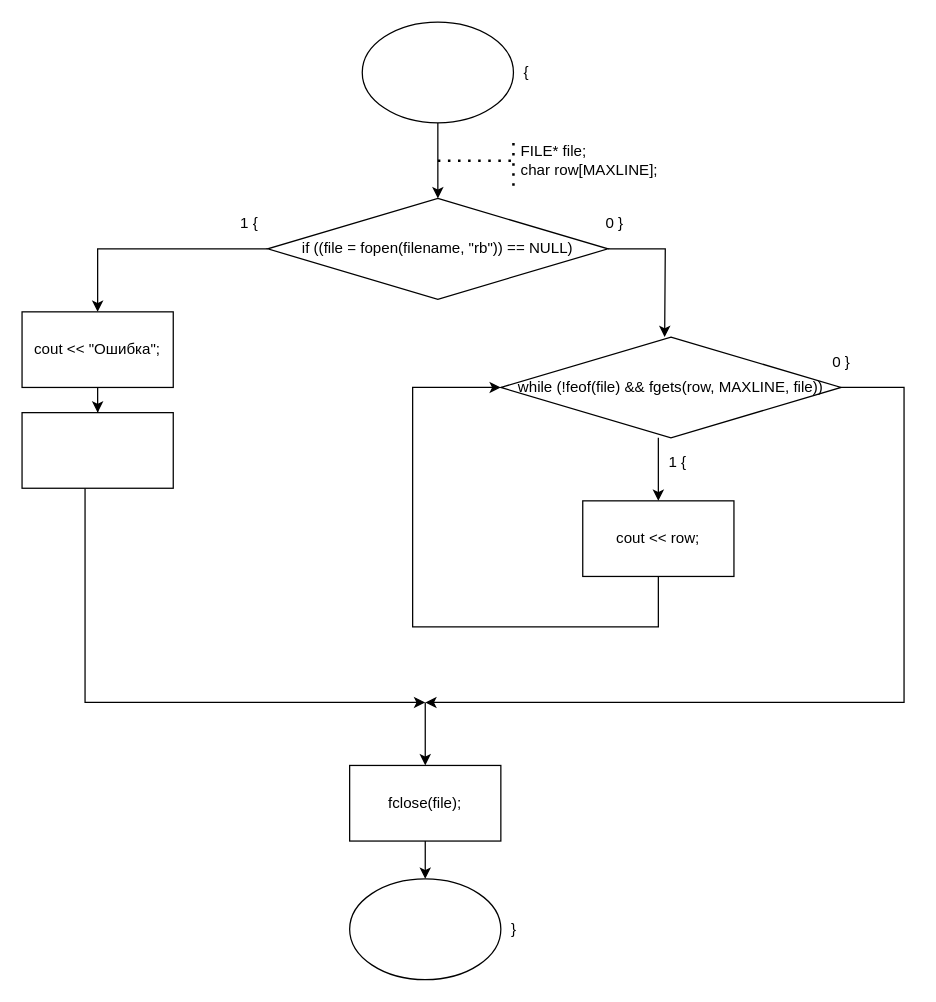
Image size: 936x1002. Some labels were removed from this diagram. The box of each missing label's shape, as (x1, y1, x2, y2) in pixels:
exit(2);: (21, 411, 173, 488)
return;: (348, 878, 501, 980)
void outputFile(char* filename): (361, 21, 513, 123)
